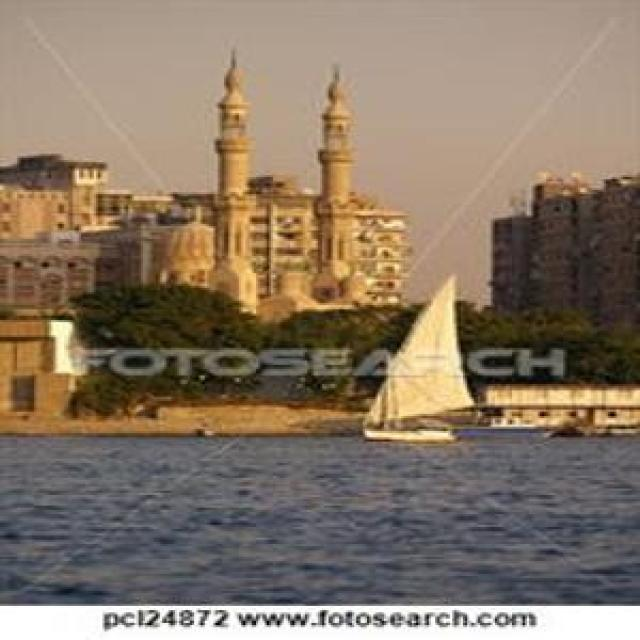sailboat: (356, 269, 477, 445)
